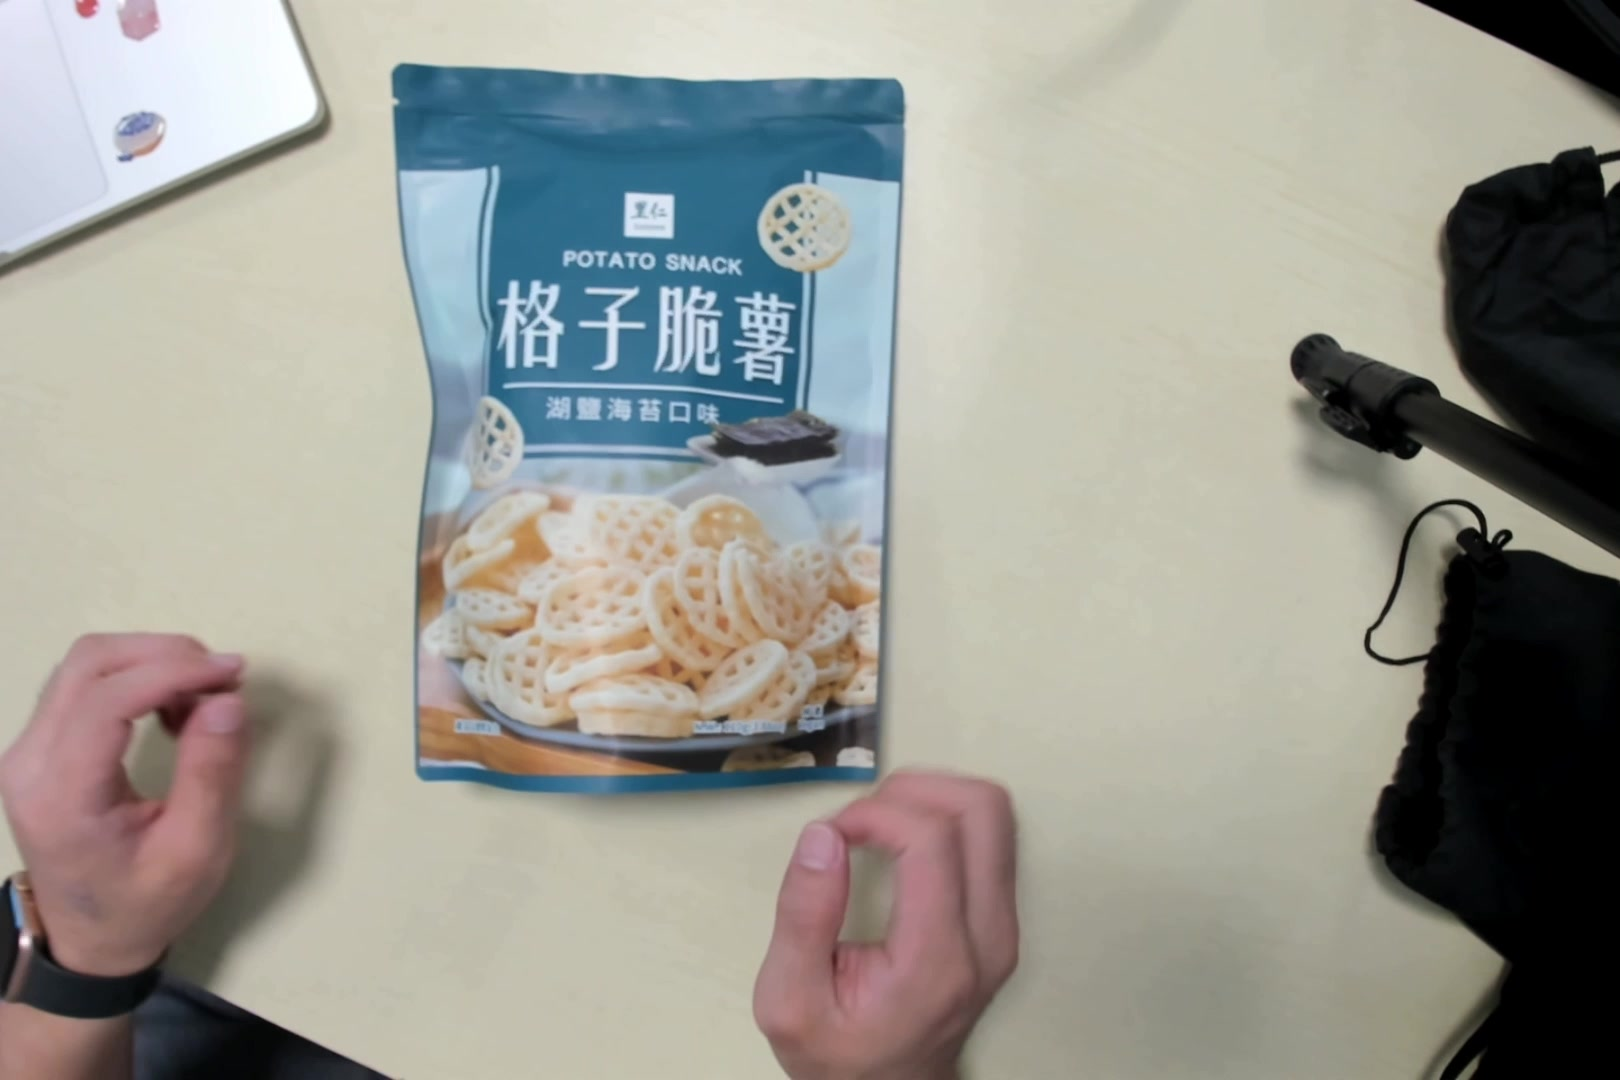PotatoChipsKeropok_100-199g_NonHalal_NonHealthy: (397, 67, 886, 790)
